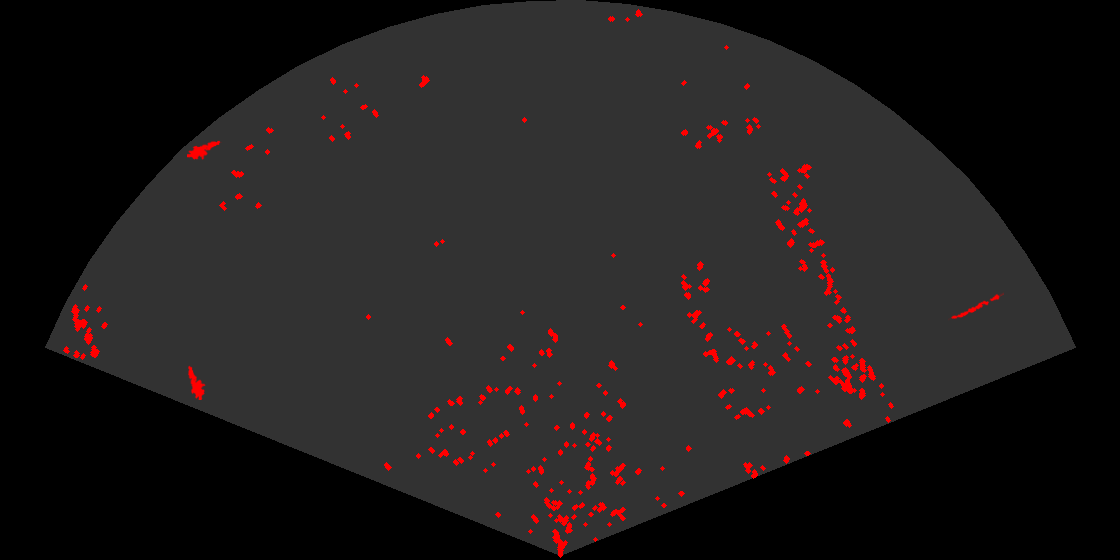chain: (948, 291, 1004, 322)
frogman: (187, 139, 222, 161), (186, 365, 207, 400)
